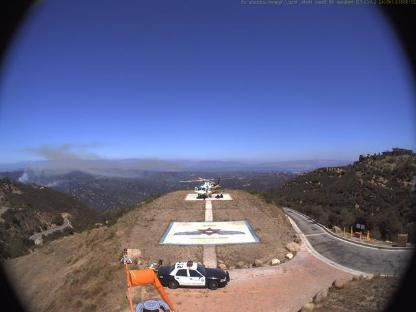smoke: (17, 138, 106, 184)
